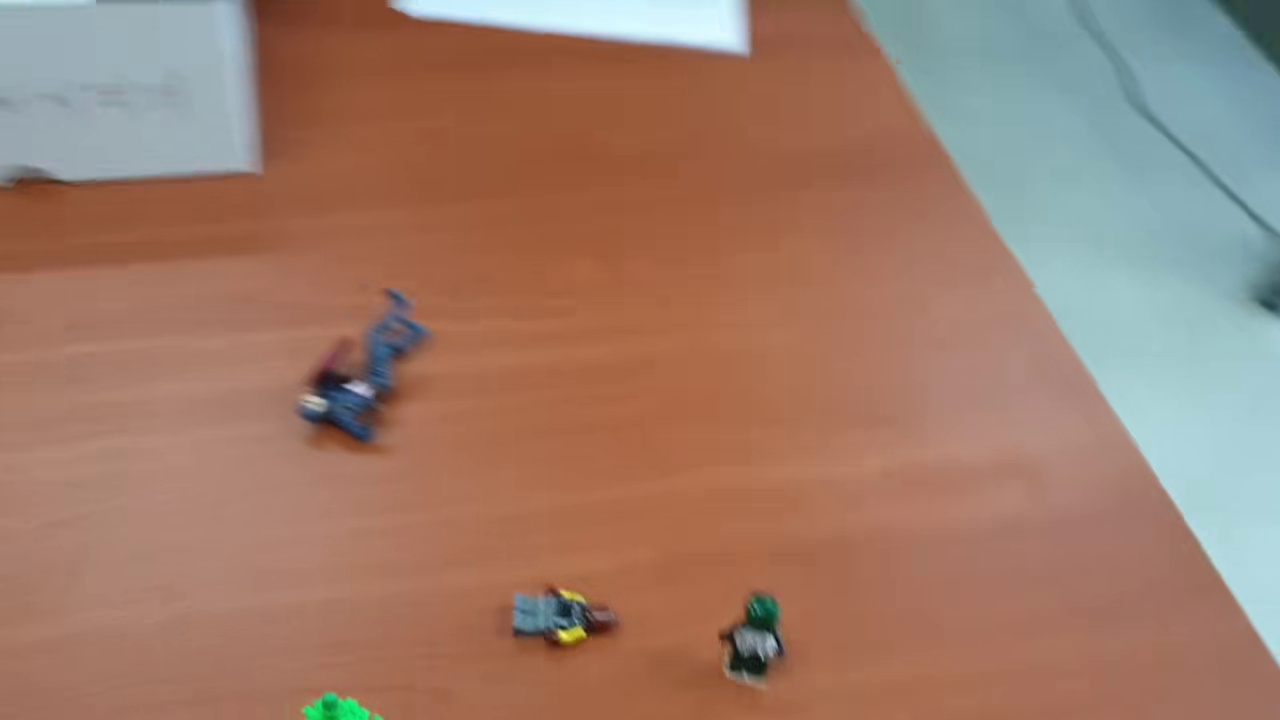people: (297, 283, 433, 448), (507, 580, 618, 650), (717, 591, 787, 691)
